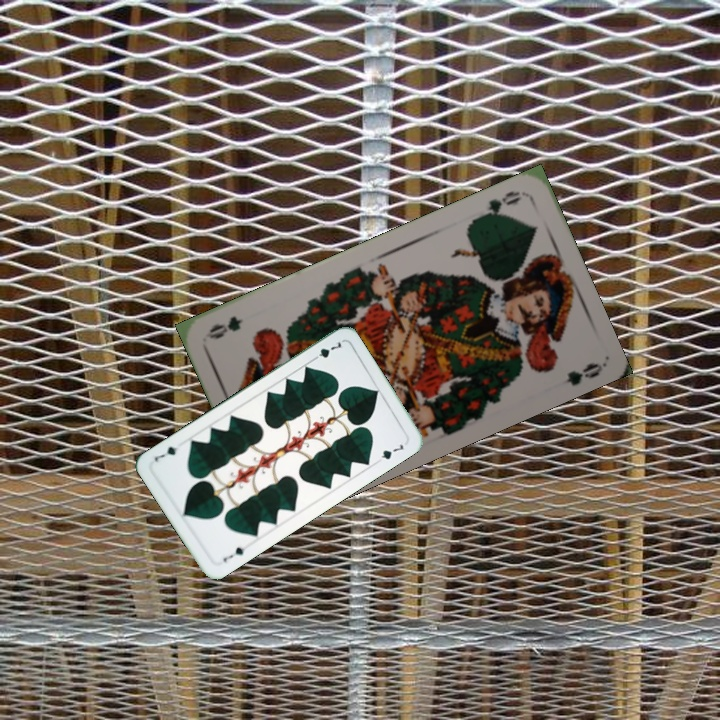G7: (307, 337, 345, 364), (219, 543, 247, 565)
GO: (472, 187, 523, 222)
